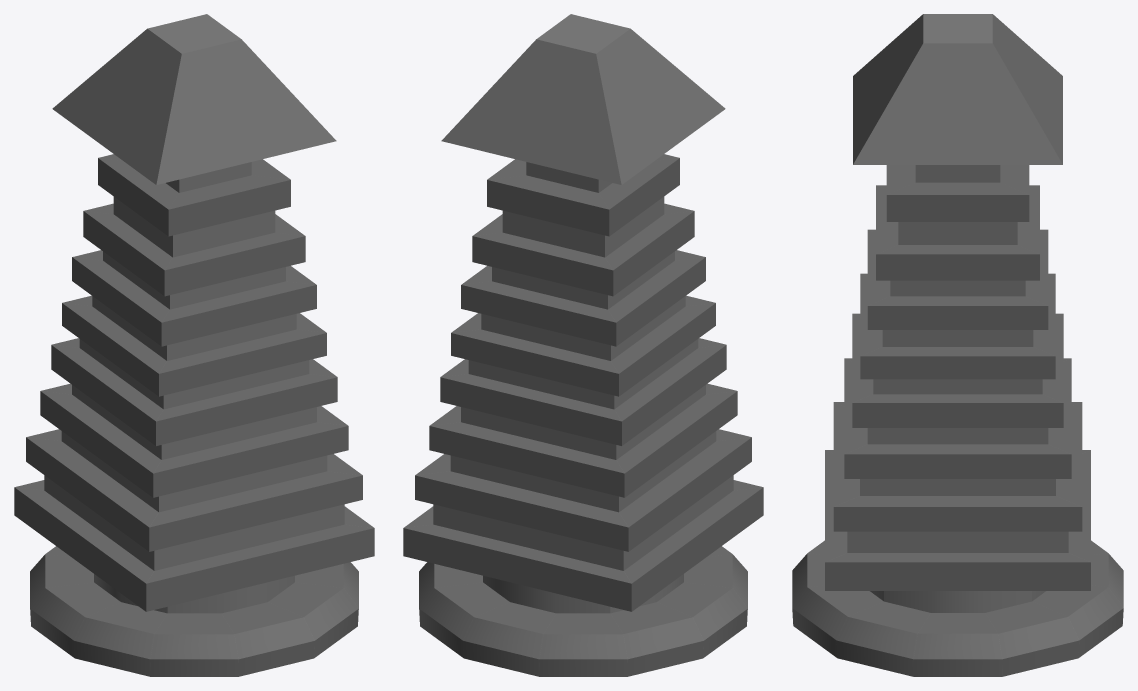
File: lantern11.fbx
3 renders of one model, left to right at view 1: azimuth 30°, elevation 25°; view 2: azimuth 150°, elevation 25°; view 3: azimuth 270°, elevation 25°, orthographic.
Parts seen in each view (by area): view 1: lantern11; view 2: lantern11; view 3: lantern11.
Boxes of the visible parts, x1,y1,x2,y2 form: lantern11: (14, 14, 374, 676); lantern11: (403, 14, 763, 676); lantern11: (792, 14, 1123, 676).
Bounding box in the file's own units: 113 × 218 × 113.
